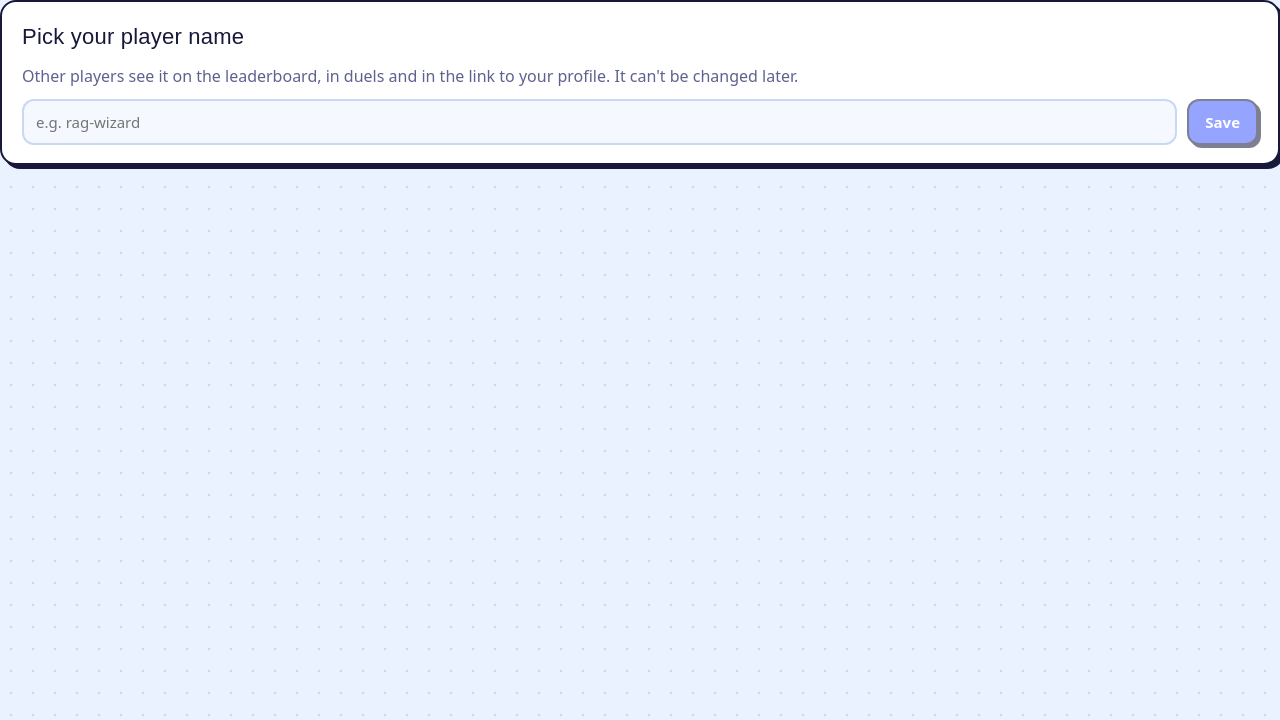
Test case: PlayerNameForm › sends a valid name (without a leading @) and shows the database's refusal
Type " @Skywalker " into the field named "Player name" at {"x": 600, "y": 122}, box [22,99,1177,145]
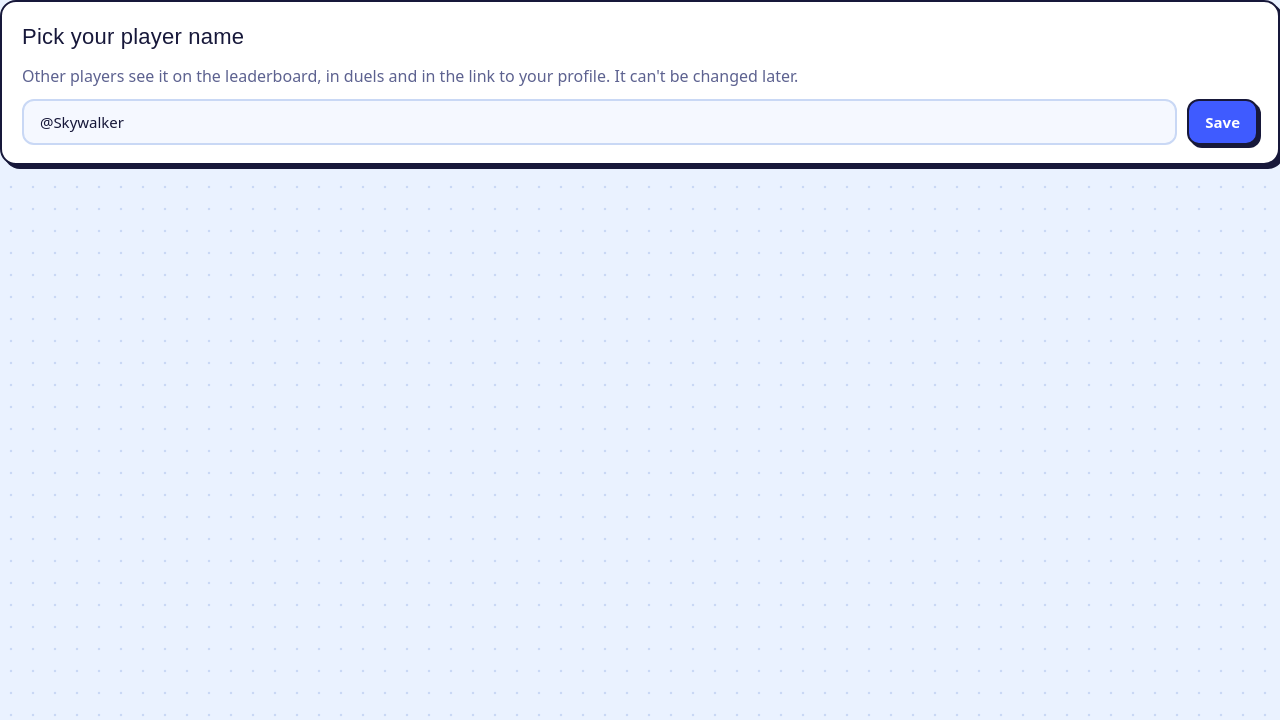
Click the button "Save" at {"x": 1223, "y": 122}, box [1187,99,1258,145]
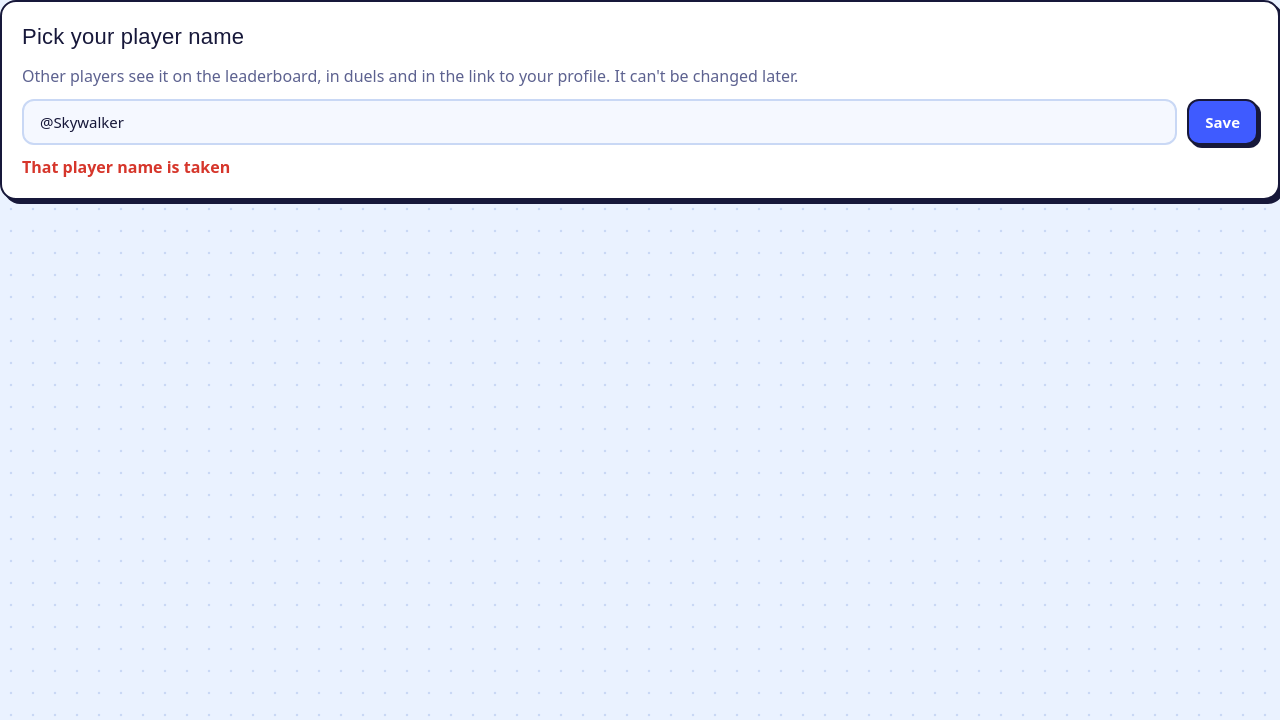
Result: the message reads "That player name is taken" at [22,156,230,178]
